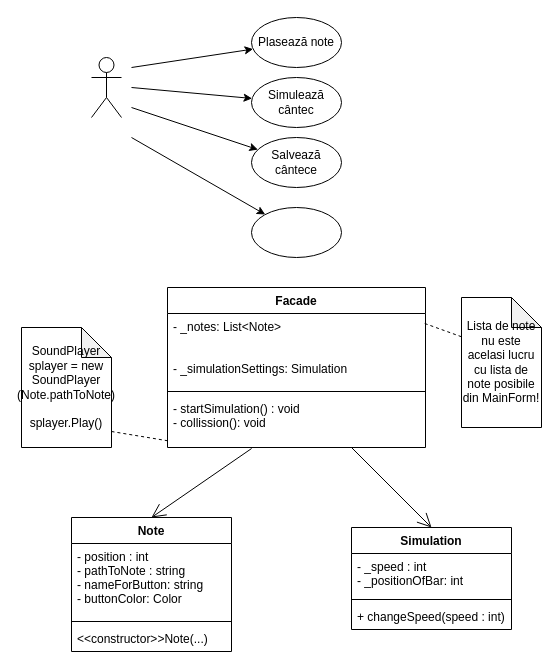
This 559x672 diagram has some shape labels left out. The centre of each missing label's shape, as x and y in pixels:
"Actor" goes at point 106,87.
"Editează cântece existente" goes at point 296,232.
